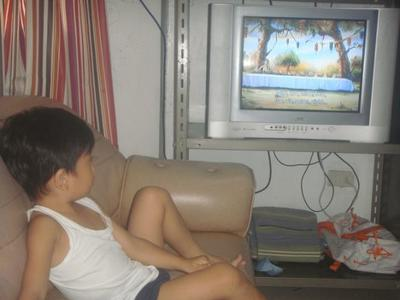person: (3, 106, 268, 300)
